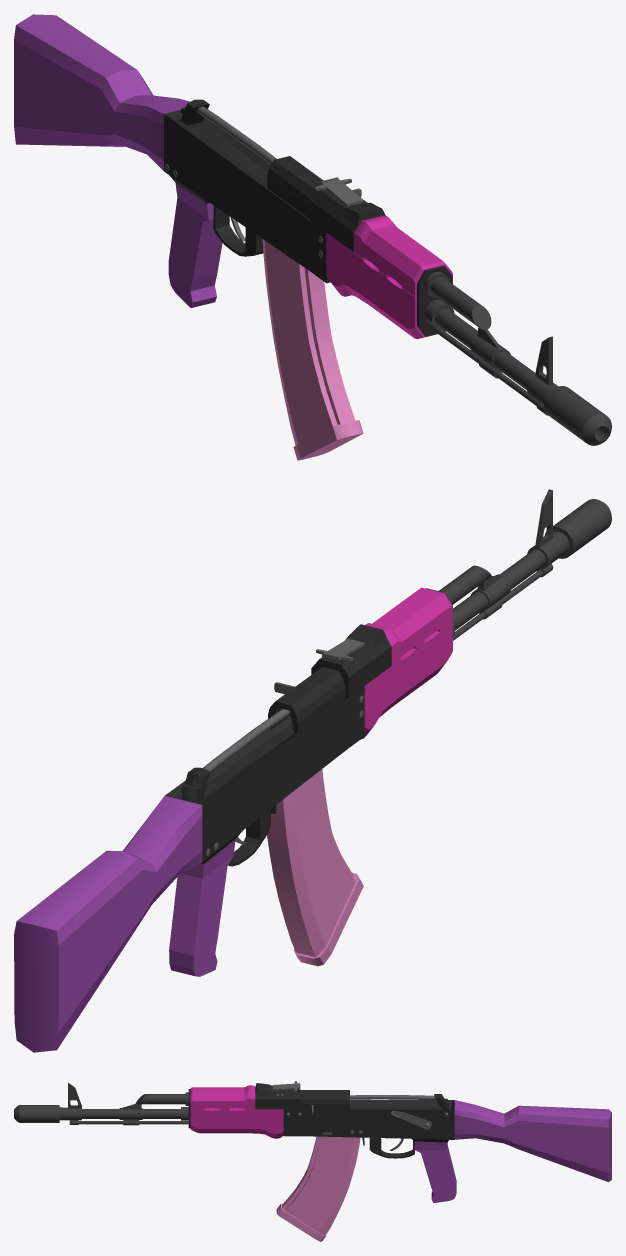
The picture shows the model from 3 angles, top to bottom: view 1: azimuth 30°, elevation 25°; view 2: azimuth 150°, elevation 25°; view 3: azimuth 270°, elevation 25°; orthographic projection. The views are drawn at different scales.
Visible parts, largest first — view 1: Cube, Cube.001, Cube.003, Cylinder, Cube.002, Cube.006, Cube.007, Cylinder.001, Cube.004, Cylinder.002, Cube.008, Cylinder.003 (+1 smaller); view 2: Cube, Cube.001, Cube.003, Cube.002, Cylinder, Cube.006, Cube.007, Cube.004, Cylinder.001, Cylinder.003, Cylinder.002, Cube.010; view 3: Cube, Cube.001, Cube.003, Cylinder, Cube.006, Cube.002, Cube.007, Cylinder.001, Cylinder.002, Cylinder.003, Cube.004, Cube.013.
Boxes of the visible parts, x1=… form: Cube: x1=14, y1=14, x2=189, y2=170; Cube.001: x1=164, y1=110, x2=385, y2=283; Cube.003: x1=262, y1=239, x2=363, y2=460; Cylinder: x1=424, y1=299, x2=611, y2=445; Cube.002: x1=168, y1=183, x2=222, y2=307; Cube.006: x1=326, y1=232, x2=437, y2=338; Cube.007: x1=353, y1=215, x2=452, y2=296; Cylinder.001: x1=424, y1=271, x2=491, y2=329; Cube.004: x1=213, y1=205, x2=263, y2=256; Cylinder.002: x1=433, y1=327, x2=547, y2=415; Cube.008: x1=417, y1=265, x2=452, y2=336; Cylinder.003: x1=196, y1=106, x2=276, y2=164; Cube: x1=14, y1=796, x2=202, y2=1052; Cube.001: x1=165, y1=624, x2=391, y2=863; Cube.003: x1=267, y1=769, x2=363, y2=966; Cube.002: x1=169, y1=839, x2=235, y2=976; Cylinder: x1=453, y1=489, x2=611, y2=635; Cube.006: x1=361, y1=621, x2=452, y2=739; Cube.007: x1=365, y1=587, x2=452, y2=665; Cube.004: x1=228, y1=809, x2=270, y2=866; Cylinder.001: x1=439, y1=565, x2=491, y2=604; Cylinder.003: x1=203, y1=709, x2=290, y2=772; Cylinder.002: x1=453, y1=564, x2=553, y2=640; Cube.010: x1=180, y1=767, x2=210, y2=803; Cube: x1=454, y1=1100, x2=611, y2=1182; Cube.001: x1=255, y1=1083, x2=454, y2=1145; Cube.003: x1=276, y1=1136, x2=360, y2=1241; Cylinder: x1=14, y1=1082, x2=188, y2=1122; Cube.006: x1=190, y1=1108, x2=283, y2=1138; Cube.002: x1=414, y1=1141, x2=456, y2=1202; Cube.007: x1=190, y1=1085, x2=255, y2=1109; Cylinder.001: x1=135, y1=1092, x2=188, y2=1105; Cylinder.002: x1=69, y1=1120, x2=188, y2=1125; Cylinder.003: x1=350, y1=1094, x2=435, y2=1100; Cube.004: x1=369, y1=1137, x2=414, y2=1158; Cube.013: x1=390, y1=1111, x2=431, y2=1129.
Size of the model in its own units: 155 by 671 by 2320.
